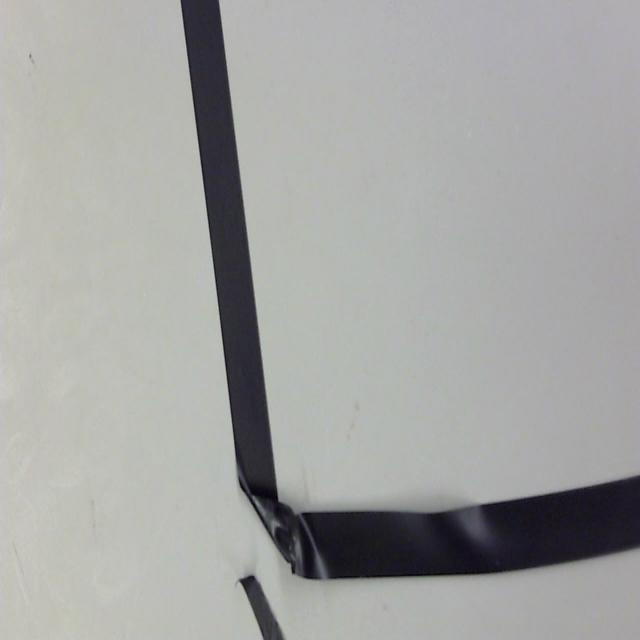tape: (156, 0, 640, 596), (224, 556, 306, 640)
